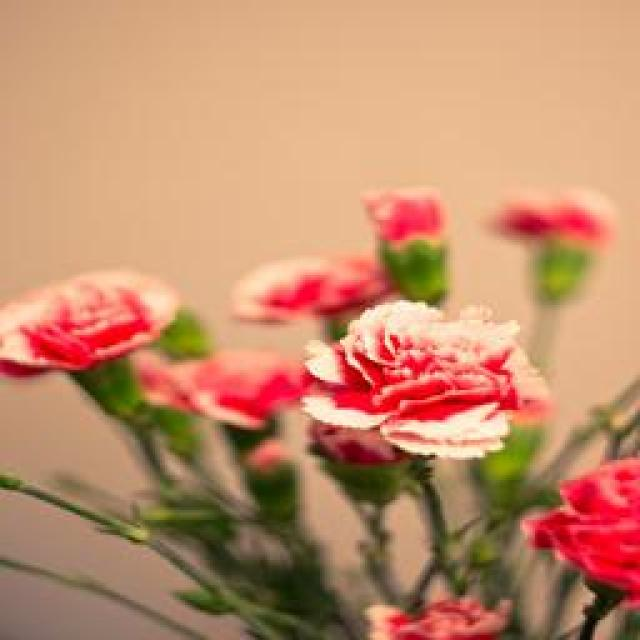carnation: (302, 290, 545, 478)
